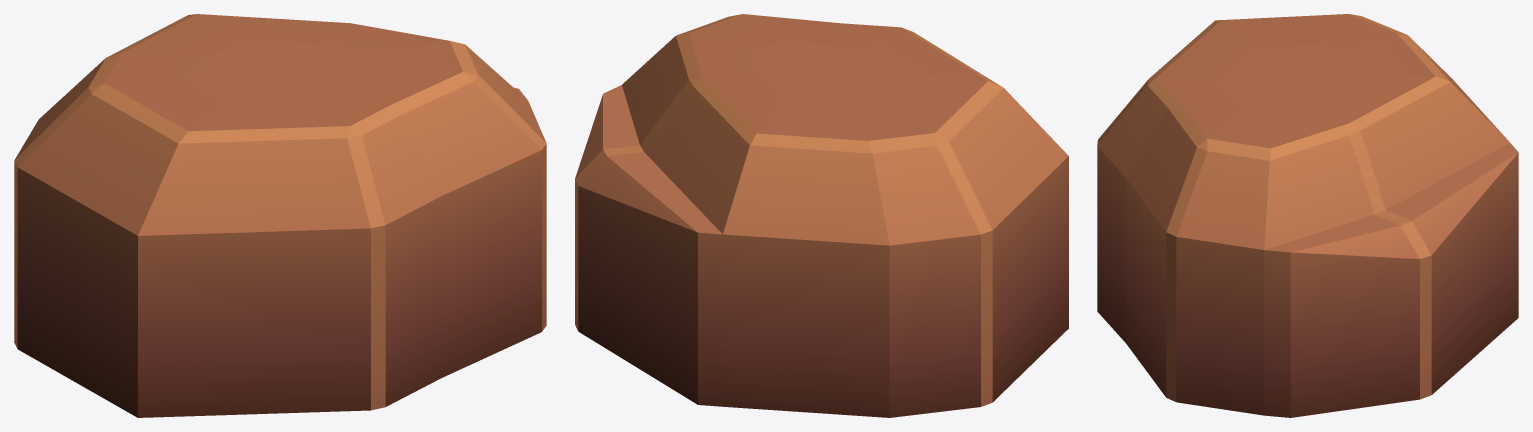
File: Rock-2-9.fbx
3 renders of one model, left to right at view 1: azimuth 30°, elevation 25°; view 2: azimuth 150°, elevation 25°; view 3: azimuth 270°, elevation 25°, orthographic. The views are drawn at different scales.
Parts seen in each view (by area): view 1: Rock-2-9; view 2: Rock-2-9; view 3: Rock-2-9.
Boxes of the visible parts, bbox=[...] form: Rock-2-9: bbox=[14, 14, 546, 417]; Rock-2-9: bbox=[575, 14, 1068, 417]; Rock-2-9: bbox=[1097, 14, 1518, 417].
Bounding box in the file's own units: 341 × 186 × 300.
